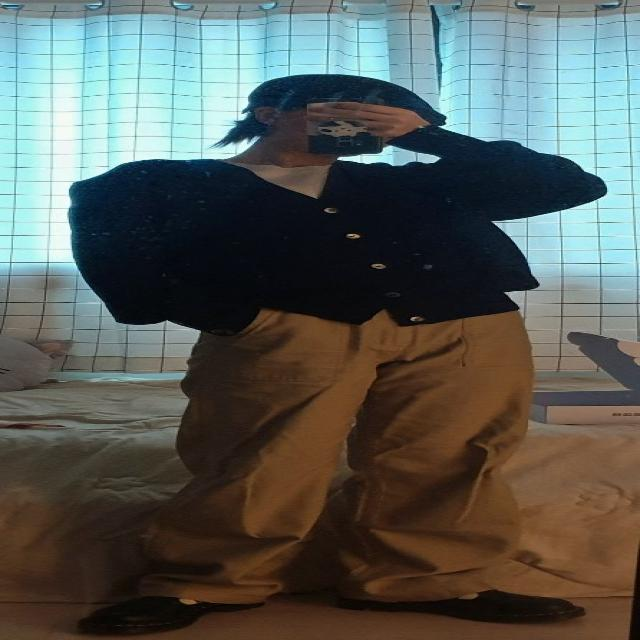cardigan: (72, 131, 614, 334)
cottonpants: (123, 295, 540, 603)
